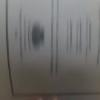notebook: (3, 0, 99, 97)
